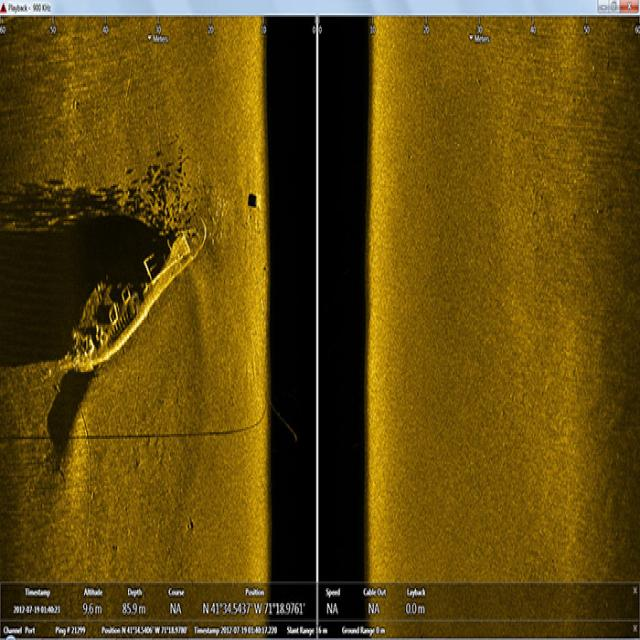ship: (56, 224, 206, 374)
